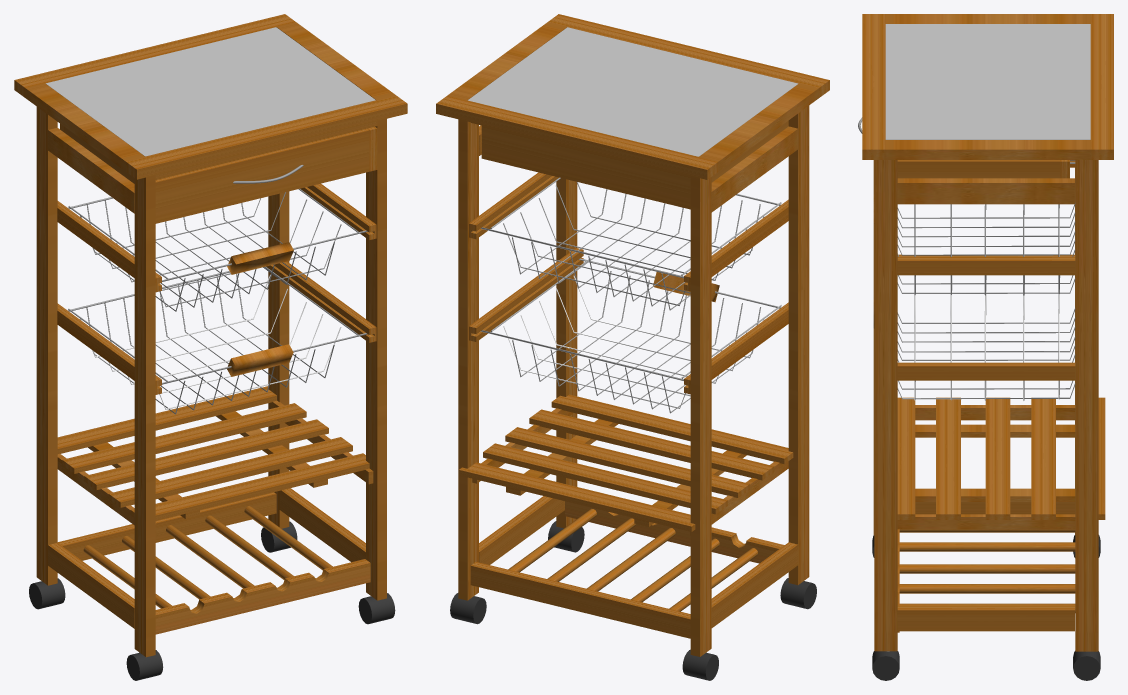
The model's file is desserte.obj.
3 renders of one model, left to right at view 1: azimuth 30°, elevation 25°; view 2: azimuth 150°, elevation 25°; view 3: azimuth 270°, elevation 25°, orthographic. The views are drawn at different scales.
Visible parts, largest first — view 1: Cube_13_53, Cube_3_5, Cube_3_1_6, Cube_8_1_15, Cube_3_2_7, Cube_1_1_2, Boolean_4_57, Cube_3_3_8, Cube_10_4_23, Cube_10_3_22, Cube_10_5_24, Cube_10_1_20 (+27 smaller); view 2: Cube_13_53, Cube_3_1_6, Cube_3_5, Cube_3_3_8, Cube_8_14, Cube_1_1, Cube_11_27, Cube_3_2_7, Cube_10_19, Cube_10_4_23, Cube_10_5_24, Cube_10_3_22 (+25 smaller); view 3: Cube_13_53, Cube_3_3_8, Cube_3_2_7, Cube_5_1_12, Cube_5_2_54, Cube_2_1_4, Cube_1_1, Cube_1_1_2, Boolean_6_84, Boolean_7_85, Cube_10_5_24, Cube_8_2_16 (+18 smaller).
Part boxes in pixels (bbox=[...]): Cube_13_53: bbox=[46, 27, 375, 156]; Cube_3_5: bbox=[134, 175, 155, 657]; Cube_3_1_6: bbox=[36, 107, 57, 585]; Cube_8_1_15: bbox=[155, 128, 369, 223]; Cube_3_2_7: bbox=[366, 119, 386, 600]; Cube_1_1_2: bbox=[125, 95, 407, 179]; Boolean_4_57: bbox=[155, 559, 370, 634]; Cube_3_3_8: bbox=[268, 191, 289, 528]; Cube_10_4_23: bbox=[108, 437, 352, 507]; Cube_10_3_22: bbox=[62, 403, 306, 473]; Cube_10_5_24: bbox=[84, 419, 328, 490]; Cube_10_1_20: bbox=[130, 453, 369, 520]; Cube_13_53: bbox=[468, 27, 798, 156]; Cube_3_1_6: bbox=[690, 176, 711, 656]; Cube_3_5: bbox=[788, 105, 809, 585]; Cube_3_3_8: bbox=[458, 119, 478, 600]; Cube_8_14: bbox=[481, 125, 690, 209]; Cube_1_1: bbox=[436, 95, 718, 179]; Cube_11_27: bbox=[470, 562, 690, 638]; Cube_3_2_7: bbox=[556, 178, 577, 528]; Cube_10_19: bbox=[459, 462, 695, 531]; Cube_10_4_23: bbox=[529, 409, 774, 480]; Cube_10_5_24: bbox=[505, 427, 749, 497]; Cube_10_3_22: bbox=[483, 443, 727, 514]; Cube_13_53: bbox=[885, 24, 1090, 139]; Cube_3_3_8: bbox=[1075, 160, 1098, 651]; Cube_3_2_7: bbox=[874, 160, 897, 651]; Cube_5_1_12: bbox=[897, 178, 1074, 204]; Cube_5_2_54: bbox=[897, 605, 1074, 631]; Cube_2_1_4: bbox=[885, 140, 1090, 159]; Cube_1_1: bbox=[1090, 14, 1113, 159]; Cube_1_1_2: bbox=[862, 14, 885, 159]; Boolean_6_84: bbox=[897, 257, 1075, 275]; Boolean_7_85: bbox=[897, 362, 1075, 380]; Cube_10_5_24: bbox=[985, 397, 1010, 519]; Cube_8_2_16: bbox=[897, 160, 1059, 178].
Size of the model in its own units: 46.7 by 85.84 by 37.22.
